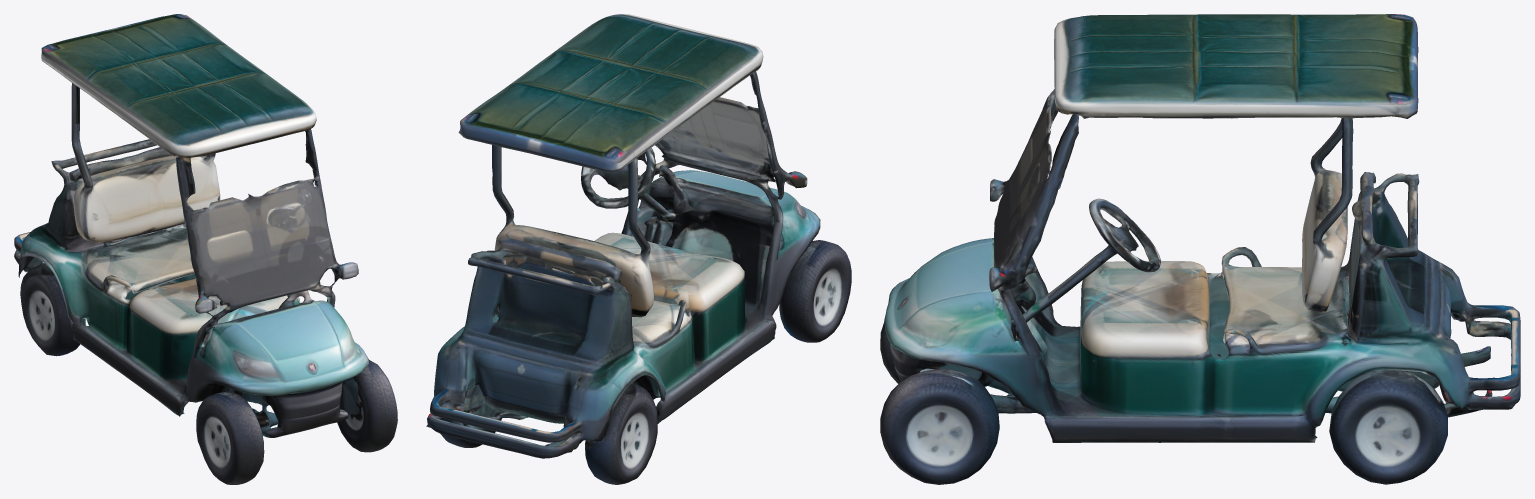
File: golf-cart.glb
The picture shows the model from 3 angles, left to right: view 1: azimuth 30°, elevation 25°; view 2: azimuth 150°, elevation 25°; view 3: azimuth 270°, elevation 25°; orthographic projection. The views are drawn at different scales.
Size of the model in its own units: 0.7446 by 1.33 by 2.
Materials: 1 (1 with a texture image).
